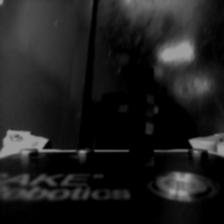Door Handle: (110, 86, 172, 148)
